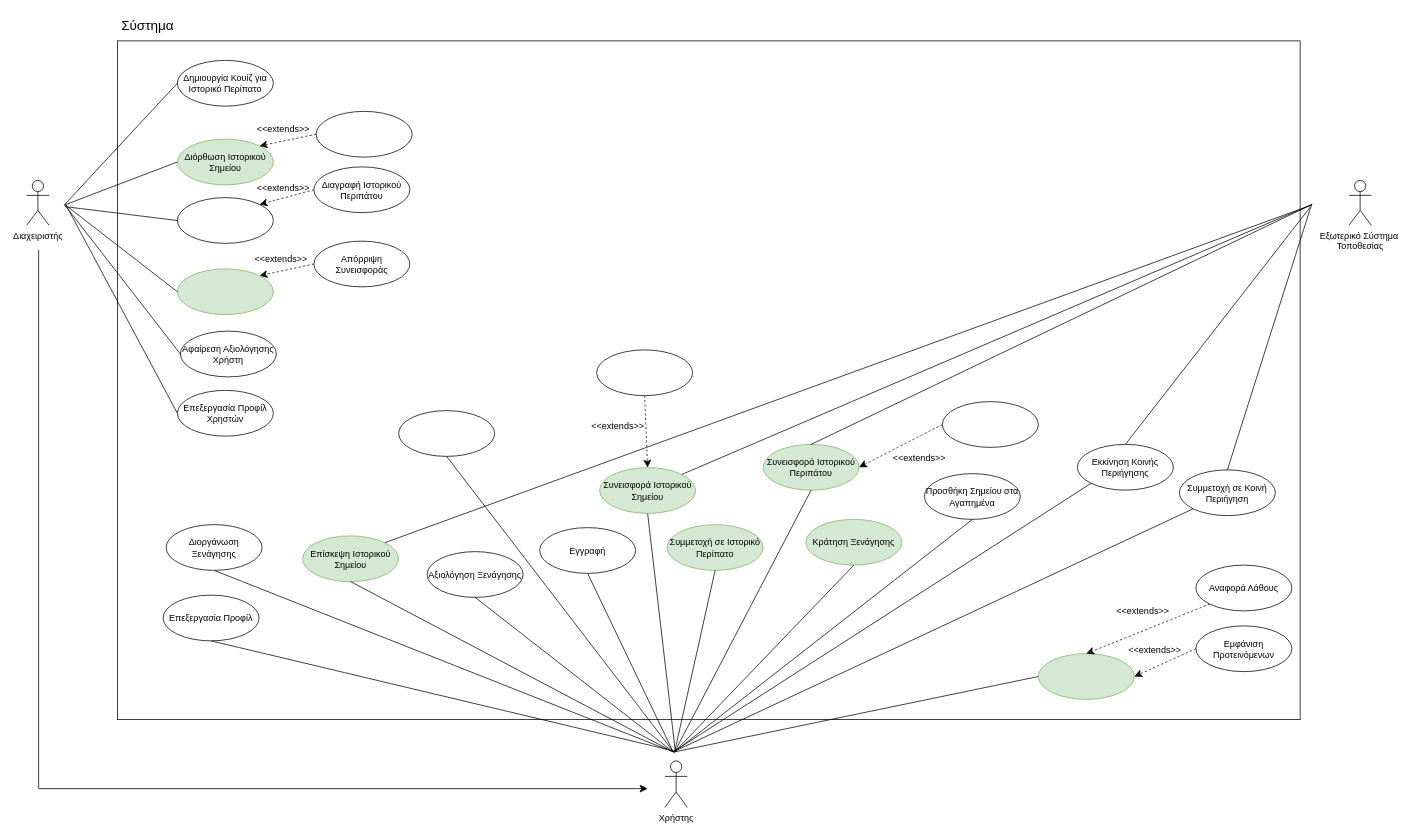
This 1413x836 diagram has some shape labels left out. Each missing label, with the box of its shape:
Έγκριση Συνεισφοράς Χρήστη: (177, 268, 273, 315)
Ακύρωση Δημιουργίας Ιστορικού Περιπάτου: (942, 401, 1038, 447)
Ακύρωση Δημιουργίας Ιστορικού Σημείου: (596, 349, 693, 396)
Διαγραφή Ιστορικού Σημείου: (315, 111, 412, 157)
Διόρθωση Ιστορικού Περιπάτου: (177, 197, 273, 243)
Ιστορικό και Αξιολόγηση Επισκέψεων: (1038, 653, 1134, 699)
Σύνδεση: (398, 410, 495, 456)
